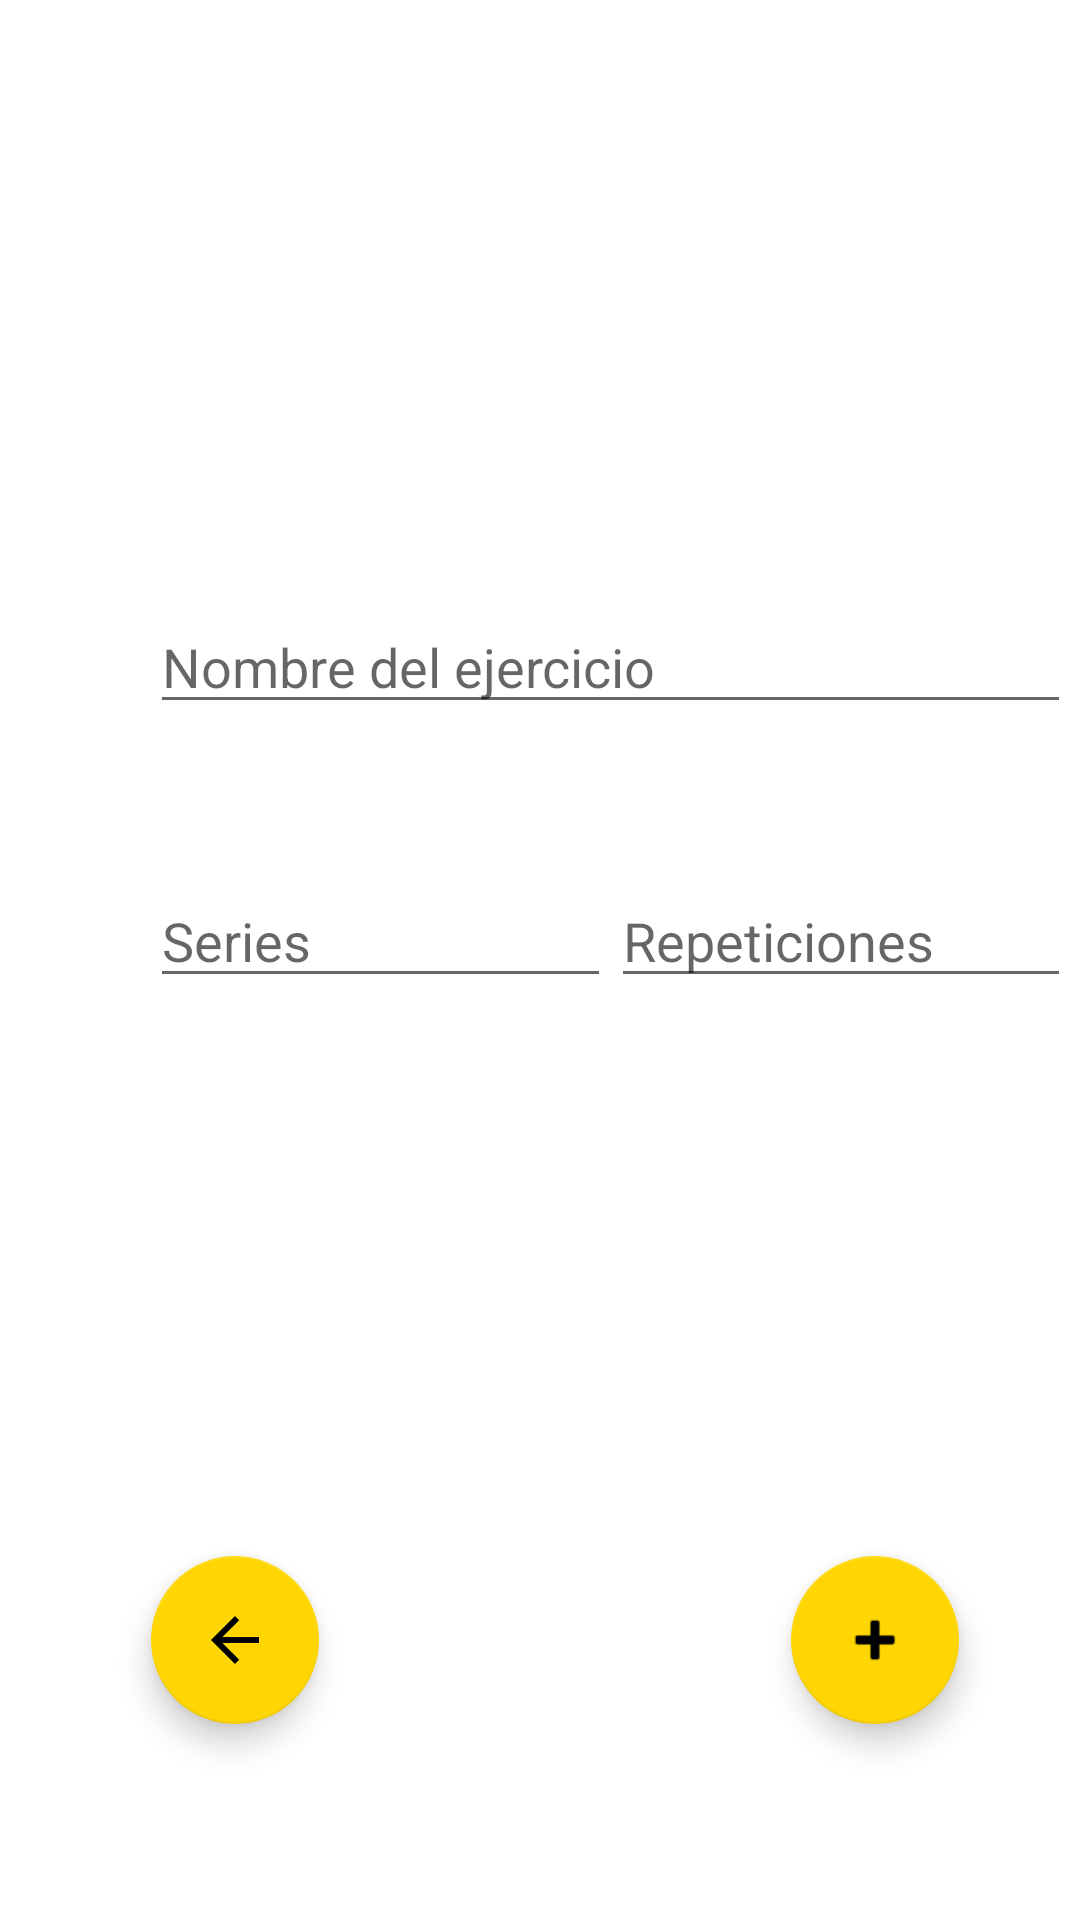

Named icons in this screenshot (1080*1920) and their centers, (x=x, y=y):
add: (x=875, y=1640)
